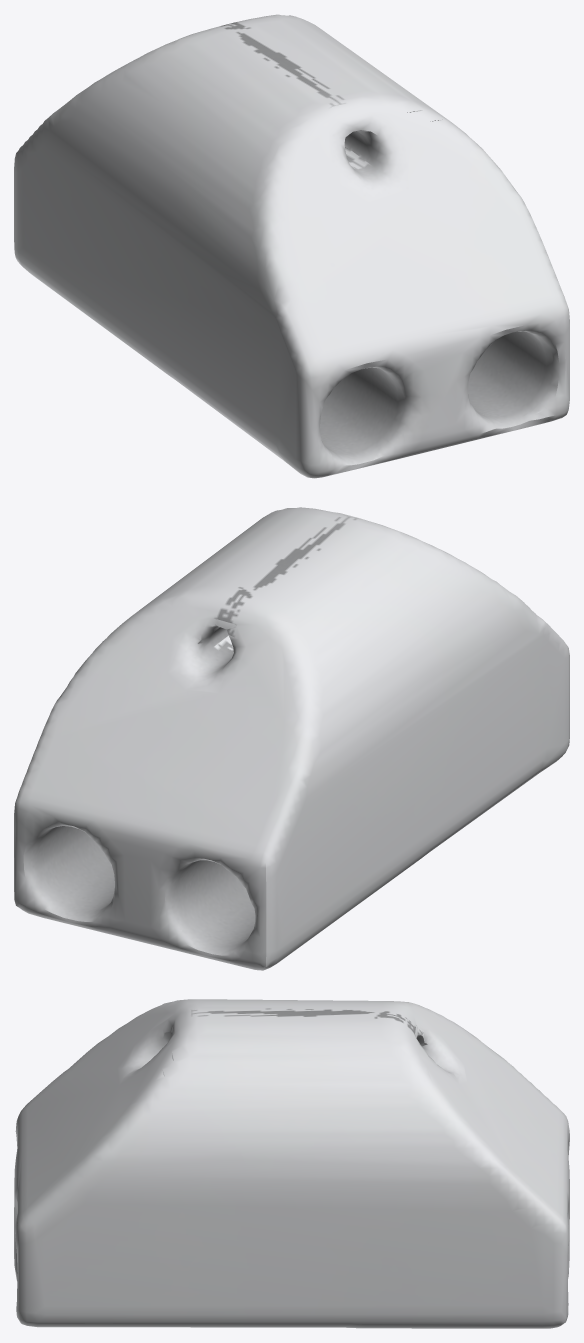
Rendered from left_finger3_middle.obj.
3 views of the same model, one above another, from view 1: azimuth 30°, elevation 25°; view 2: azimuth 150°, elevation 25°; view 3: azimuth 270°, elevation 25° (orthographic). The views are drawn at different scales.
Visible parts, largest first — view 1: left_finger3_middle; view 2: left_finger3_middle; view 3: left_finger3_middle.
Part boxes in pixels (x1=…): left_finger3_middle: x1=14, y1=14, x2=569, y2=478; left_finger3_middle: x1=14, y1=507, x2=569, y2=970; left_finger3_middle: x1=14, y1=999, x2=569, y2=1328.
Size of the model in its own units: 0.0112 by 0.0113 by 0.0218.
Materials: 1 (1 with a texture image).
